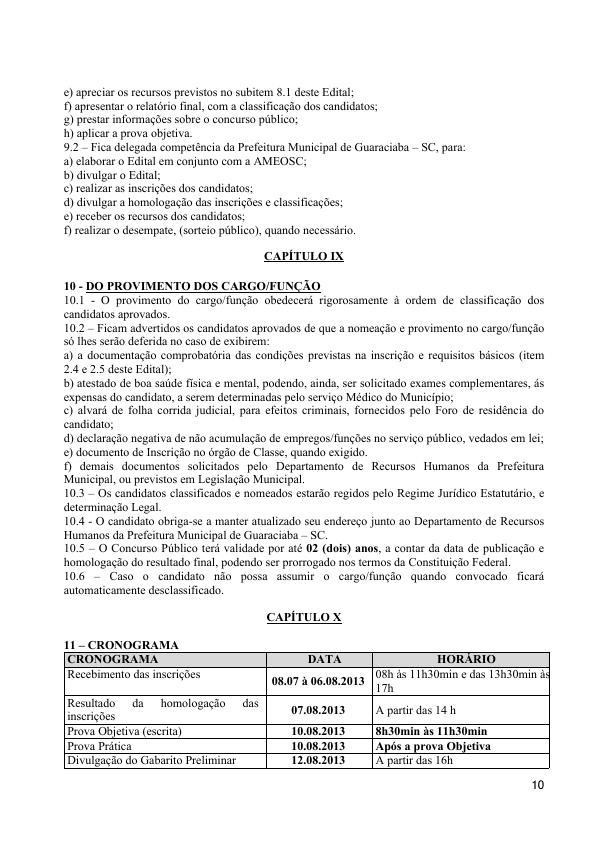table: (62, 651, 553, 772)
text: (63, 280, 548, 600), (61, 85, 468, 238), (264, 608, 346, 629), (62, 636, 180, 649), (262, 250, 347, 267)
